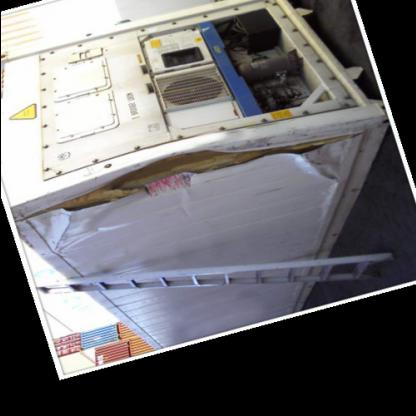Damage: (23, 108, 362, 230)
